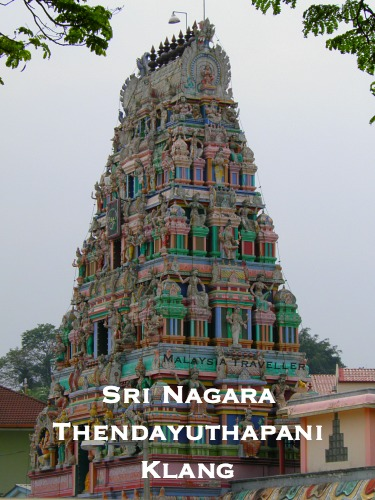Hindu Temple: (31, 22, 316, 468)
